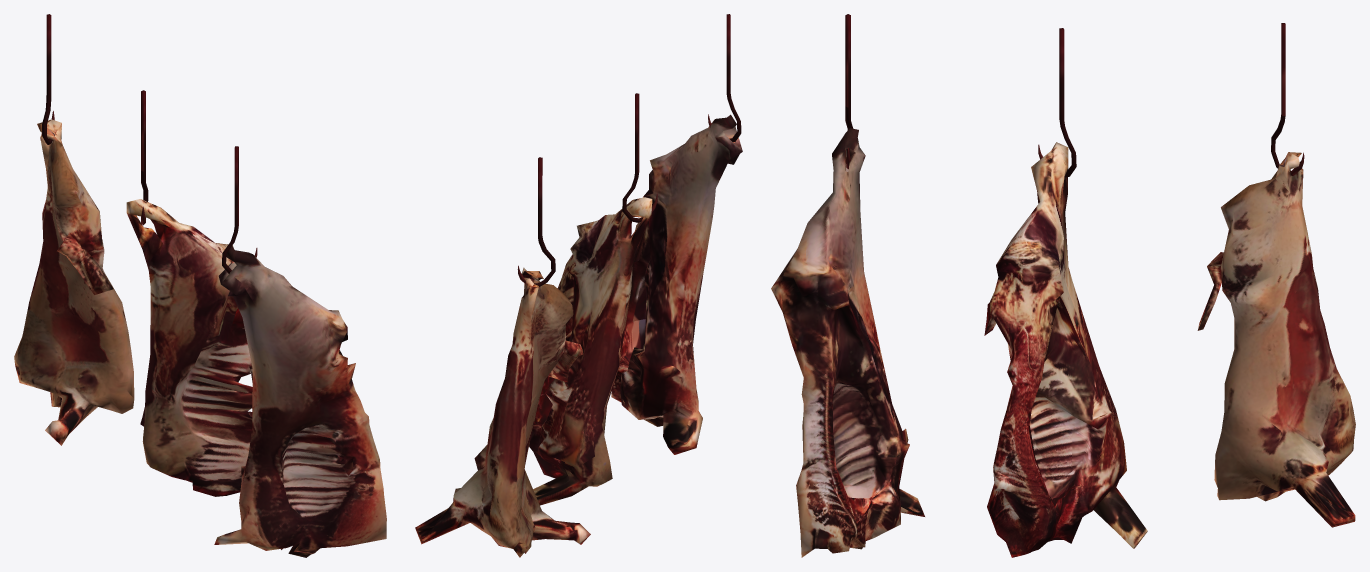
File: Carnes.glb
3 views of the same model, side by side, from view 1: azimuth 30°, elevation 25°; view 2: azimuth 150°, elevation 25°; view 3: azimuth 270°, elevation 25° (orthographic). The views are drawn at different scales.
Parts seen in each view (by area): view 1: tripo_node_f0f76c06-7b7a-45e0-bd49-f093b413f2ed.001_carcass_, tripo_node_f0f76c06-7b7a-45e0-bd49-f093b413f2ed.002_carcass_, tripo_node_f0f76c06-7b7a-45e0-bd49-f093b413f2ed; view 2: tripo_node_f0f76c06-7b7a-45e0-bd49-f093b413f2ed.001_carcass_, tripo_node_f0f76c06-7b7a-45e0-bd49-f093b413f2ed.002_carcass_, tripo_node_f0f76c06-7b7a-45e0-bd49-f093b413f2ed; view 3: tripo_node_f0f76c06-7b7a-45e0-bd49-f093b413f2ed.002_carcass_, tripo_node_f0f76c06-7b7a-45e0-bd49-f093b413f2ed, tripo_node_f0f76c06-7b7a-45e0-bd49-f093b413f2ed.001_carcass_.
Boxes of the visible parts, <box> form: tripo_node_f0f76c06-7b7a-45e0-bd49-f093b413f2ed.001_carcass_: <box>214,146,386,557</box>; tripo_node_f0f76c06-7b7a-45e0-bd49-f093b413f2ed.002_carcass_: <box>126,90,252,496</box>; tripo_node_f0f76c06-7b7a-45e0-bd49-f093b413f2ed: <box>14,14,134,445</box>; tripo_node_f0f76c06-7b7a-45e0-bd49-f093b413f2ed.001_carcass_: <box>611,14,742,454</box>; tripo_node_f0f76c06-7b7a-45e0-bd49-f093b413f2ed.002_carcass_: <box>529,93,657,505</box>; tripo_node_f0f76c06-7b7a-45e0-bd49-f093b413f2ed: <box>415,157,590,557</box>; tripo_node_f0f76c06-7b7a-45e0-bd49-f093b413f2ed.002_carcass_: <box>984,28,1147,557</box>; tripo_node_f0f76c06-7b7a-45e0-bd49-f093b413f2ed: <box>1197,23,1355,527</box>; tripo_node_f0f76c06-7b7a-45e0-bd49-f093b413f2ed.001_carcass_: <box>771,14,924,557</box>.
Bounding box in the file's own units: 2.58 × 6.95 × 7.47.
1 material, 1 textured.
